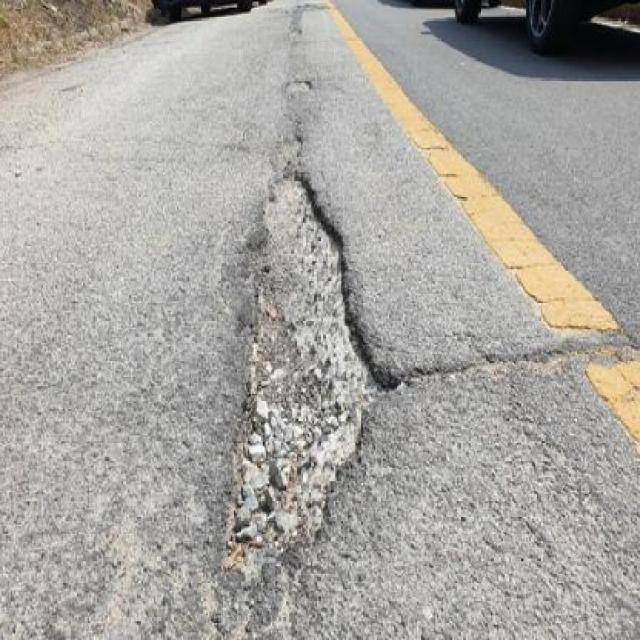Buraco: (212, 129, 416, 590), (281, 78, 316, 103)
